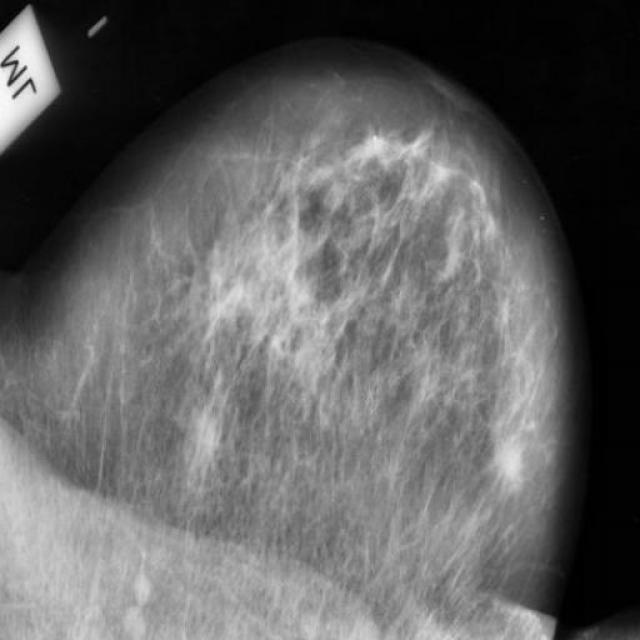cancer: (488, 418, 536, 494)
